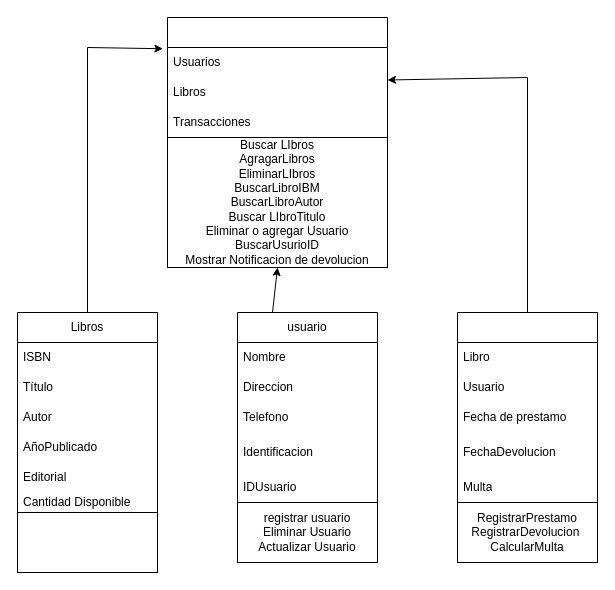
Image size: 615x590. Some labels were removed from this diagram. The shapes that lost their labels are listed below. From the top down, each one's box as (x1, y1, x2, y2) in pixels, then its label:
(166, 16, 388, 268): Biblioteca
(456, 312, 598, 562): Transaccion
(16, 512, 158, 572): Agregar libro Actualizar Libro Eliminar Libro
